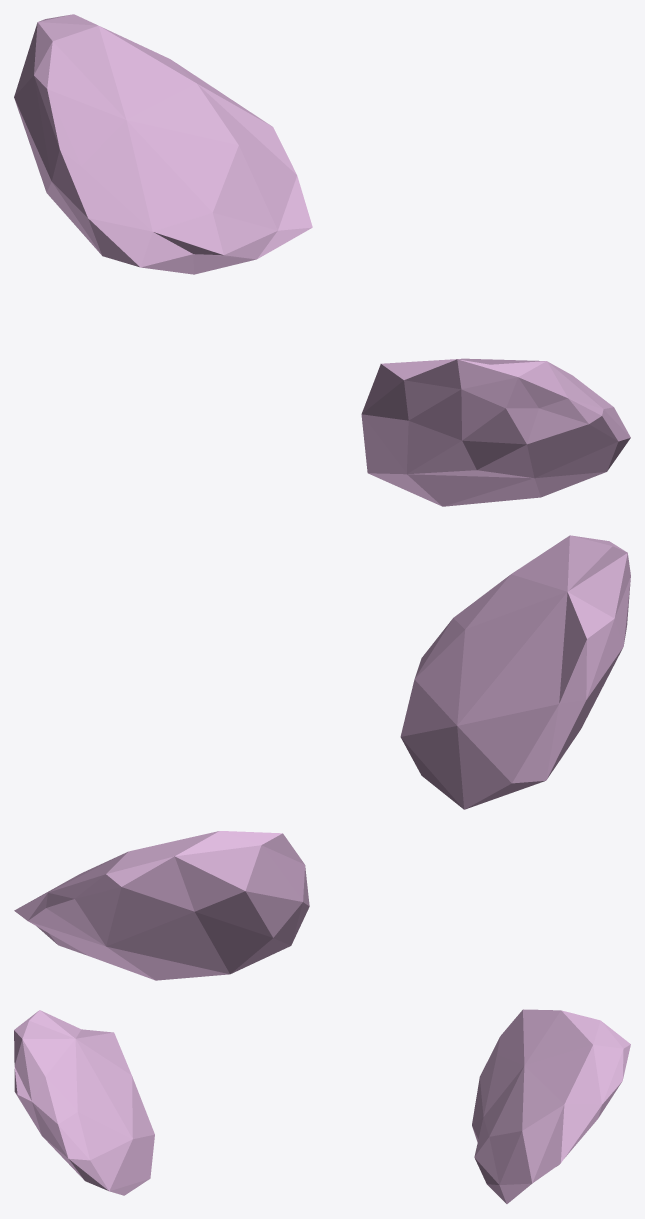
3 views of the same model, one above another, from view 1: azimuth 30°, elevation 25°; view 2: azimuth 150°, elevation 25°; view 3: azimuth 270°, elevation 25° (orthographic). The views are drawn at different scales.
Parts seen in each view (by area): view 1: 607344862.obj; view 2: 607344862.obj; view 3: 607344862.obj.
Boxes of the visible parts, x1=… form: 607344862.obj: x1=14, y1=14, x2=630, y2=506; 607344862.obj: x1=14, y1=535, x2=630, y2=980; 607344862.obj: x1=14, y1=1009, x2=630, y2=1203.
Size of the model in its own units: 209 by 178 by 676.
